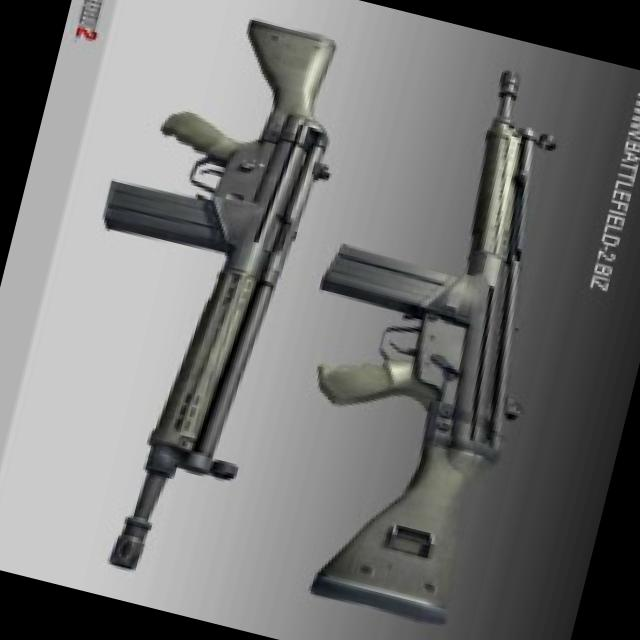long weapon: (238, 39, 634, 639), (18, 0, 373, 605)
